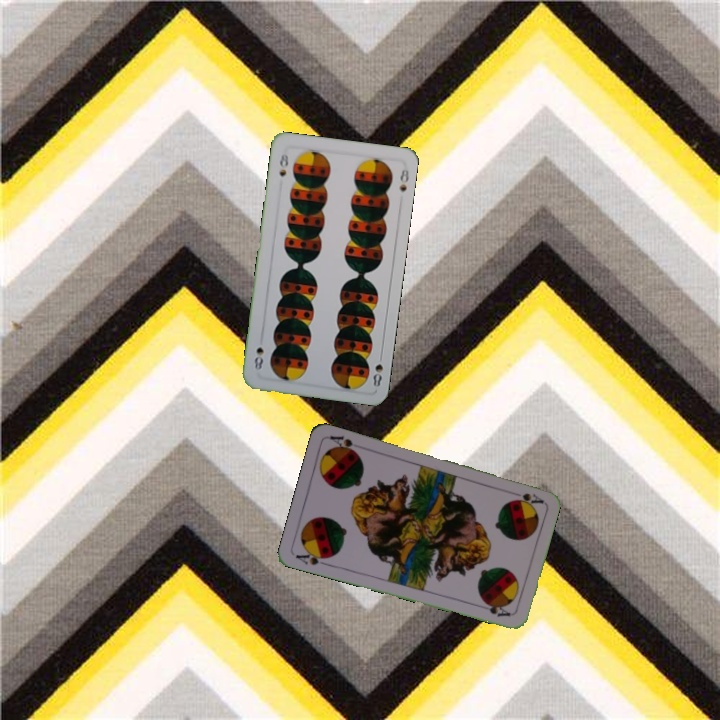S8: (369, 349, 385, 390), (275, 150, 291, 179)
SA: (292, 547, 333, 569), (505, 487, 545, 506)
